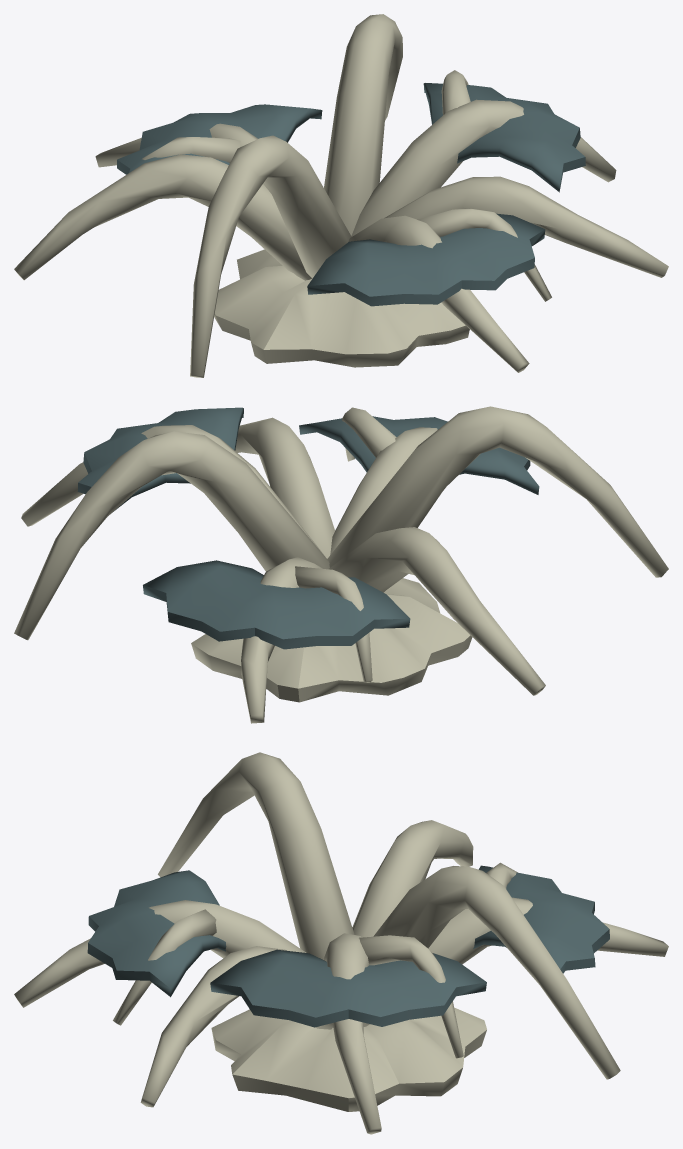
The model's file is dead_crown_lod2.glb.
3 views of the same model, one above another, from view 1: azimuth 30°, elevation 25°; view 2: azimuth 150°, elevation 25°; view 3: azimuth 270°, elevation 25° (orthographic). The views are drawn at different scales.
Visible parts, largest first — view 1: LOD2_calcite, LOD2_tissue_fold; view 2: LOD2_calcite, LOD2_tissue_fold; view 3: LOD2_calcite, LOD2_tissue_fold.
Part boxes in pixels (x1,y1,x2,y2): LOD2_calcite: (14, 14, 668, 377); LOD2_tissue_fold: (117, 83, 585, 306); LOD2_calcite: (14, 406, 668, 723); LOD2_tissue_fold: (77, 407, 539, 649); LOD2_calcite: (14, 752, 668, 1134); LOD2_tissue_fold: (87, 865, 609, 1027).
Bounding box in the file's own units: 2.78 × 1.13 × 2.81.
